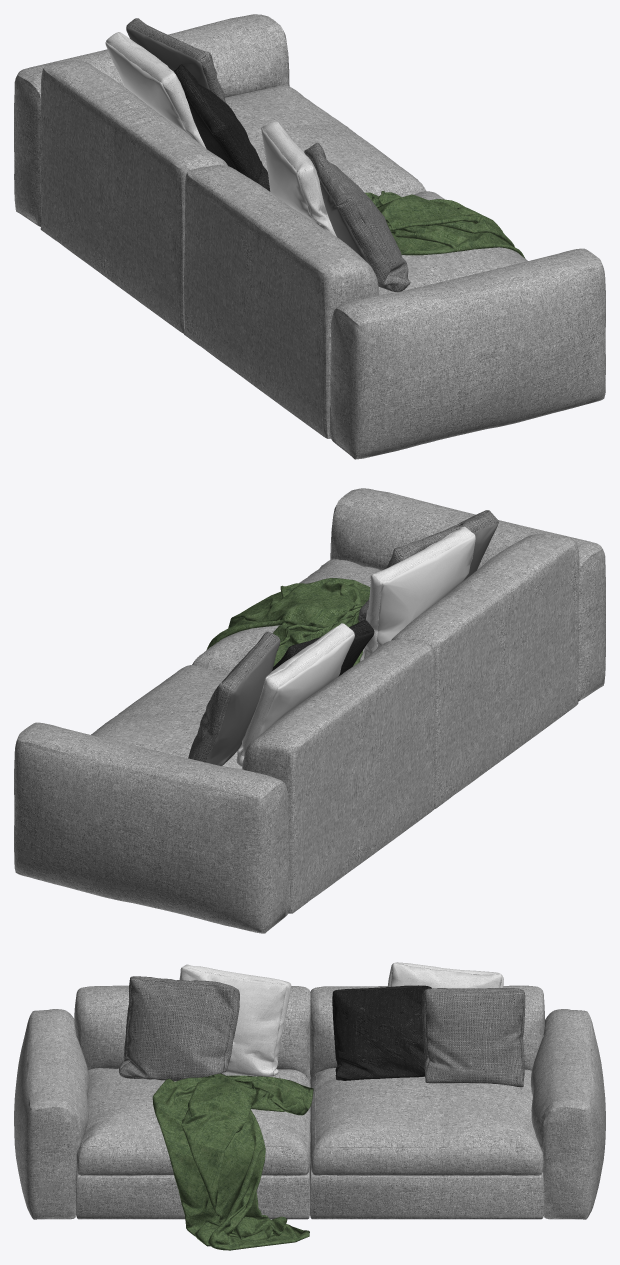
Rendered from Sofa2.glb.
3 renders of one model, top to bottom at view 1: azimuth 30°, elevation 25°; view 2: azimuth 150°, elevation 25°; view 3: azimuth 270°, elevation 25°, orthographic. The views are drawn at different scales.
Parts seen in each view (by area): view 1: Dune, Group3264; view 2: Dune, Group3264; view 3: Dune, Group3264.
Boxes of the visible parts, x1,y1,x2,y2 form: Dune: (14,14,605,459); Group3264: (365,190,525,258); Dune: (14,488,605,933); Group3264: (206,578,370,666); Dune: (14,962,605,1219); Group3264: (152,1073,313,1250).
Size of the model in its own units: 1.3 by 0.8445 by 2.55.
Materials: 5 (5 with a texture image).
